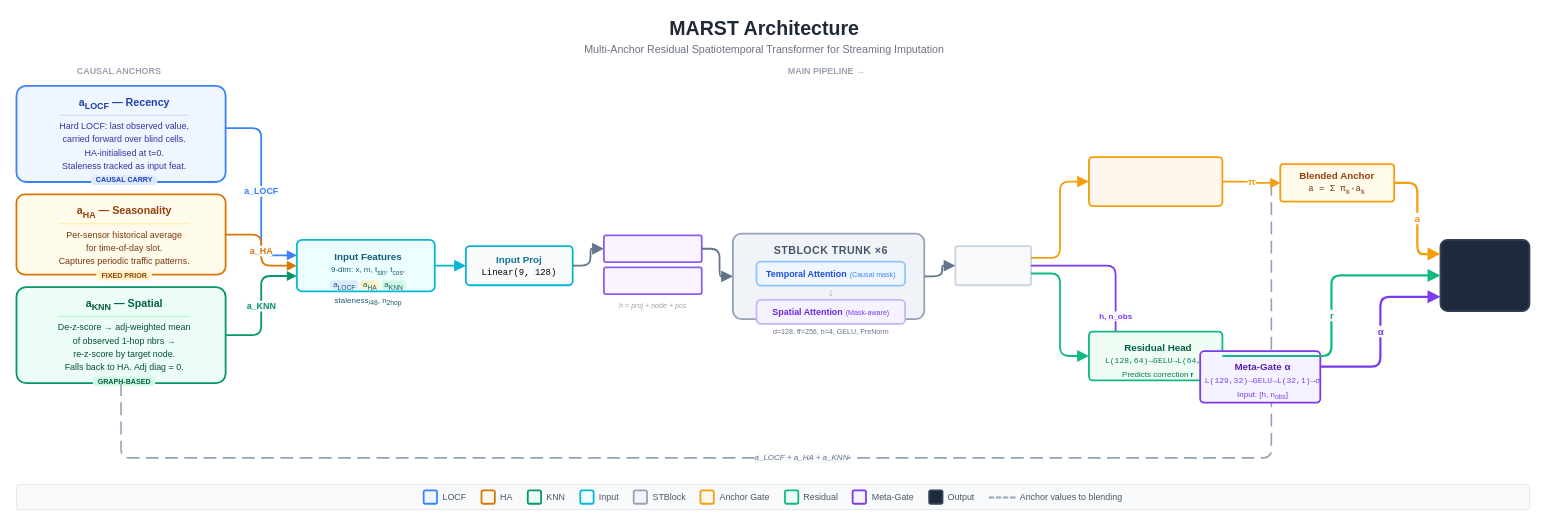
This 1545x525 diagram has some shape labels left out. The centre of each missing label's shape, as x and y in pixels:
"Anchor Gate (Mixing) L(128,32)→GELU→L(32,3) →softmax → π ∈ Δ²" goes at (1155,181).
"LayerNorm" goes at (993,265).
"Node Emb N×128" goes at (652,248).
"Output: ŷ Per (sensor, time) ŷ = a + α·r" goes at (1484,275).
"Pos Emb T×128" goes at (652,280).
